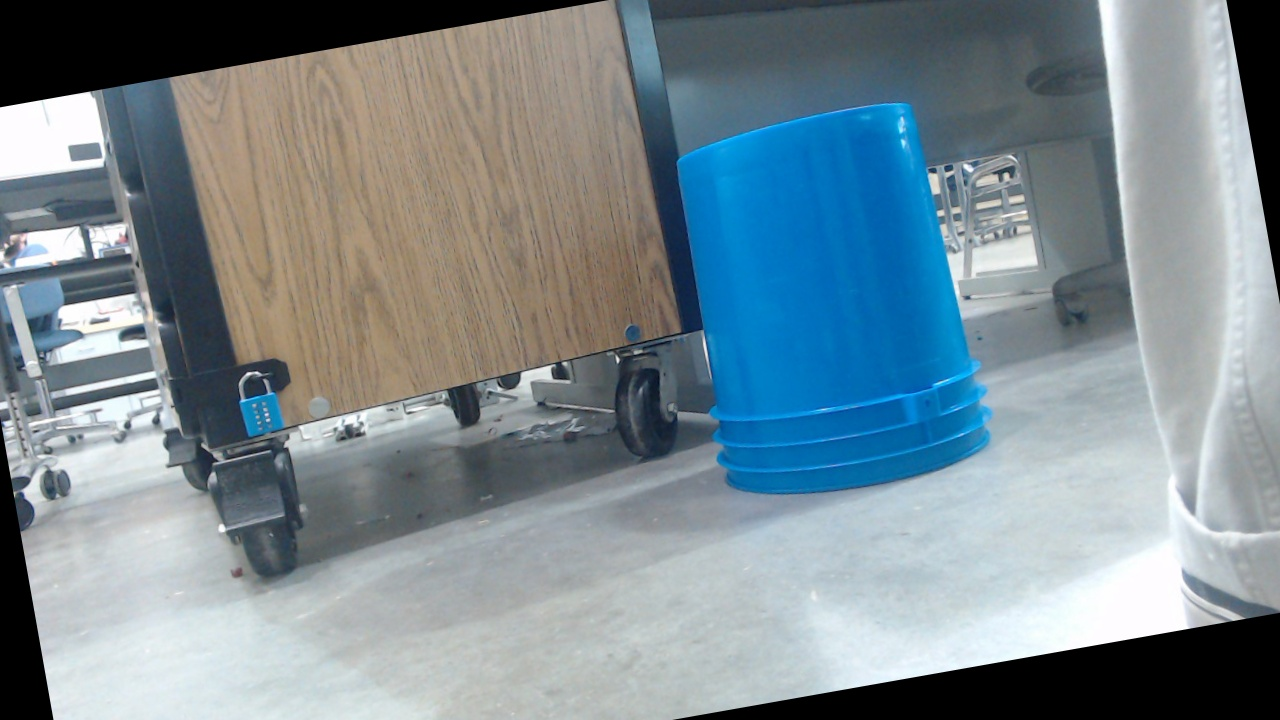blue_bucket: (666, 160, 1020, 592)
